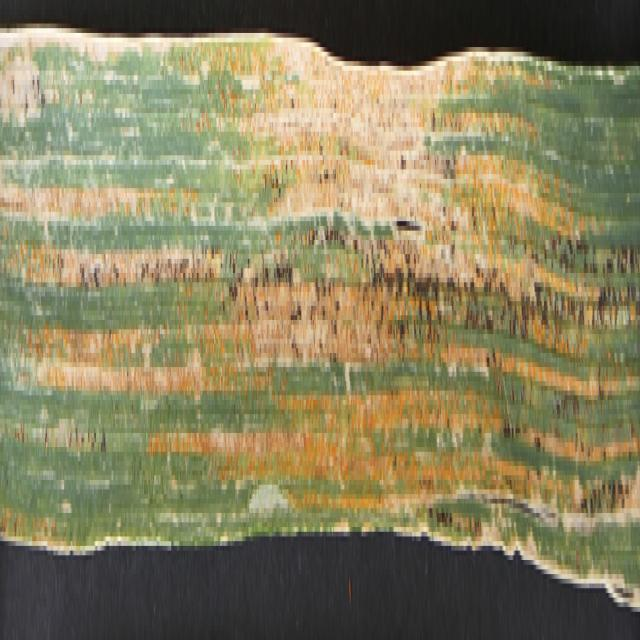leaf rust: (2, 33, 640, 574)
